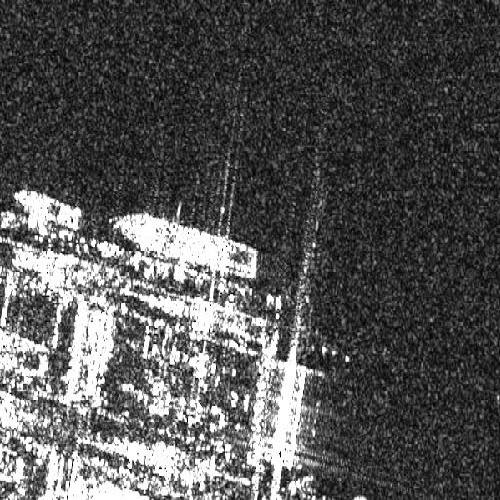ship: (110, 211, 259, 283), (12, 189, 80, 232)
